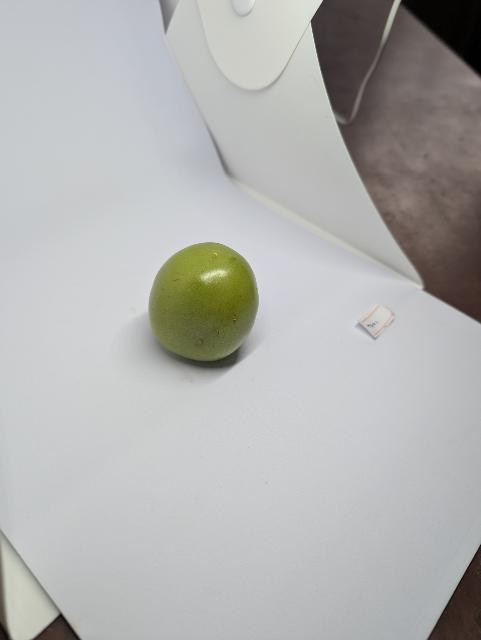green: (143, 240, 266, 365)
